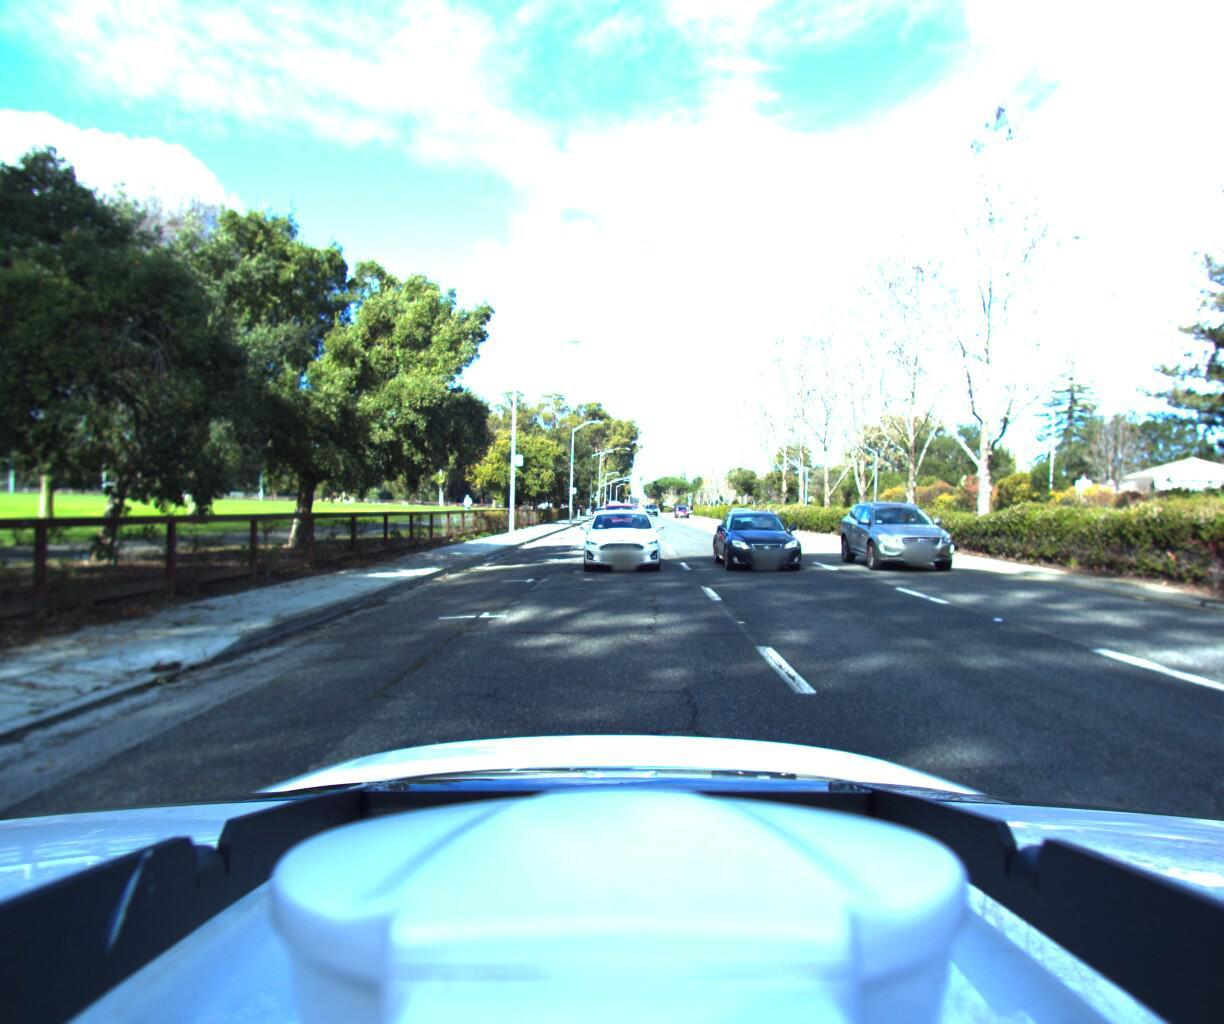car: (844, 496, 985, 578), (710, 509, 818, 577), (574, 504, 661, 571)
